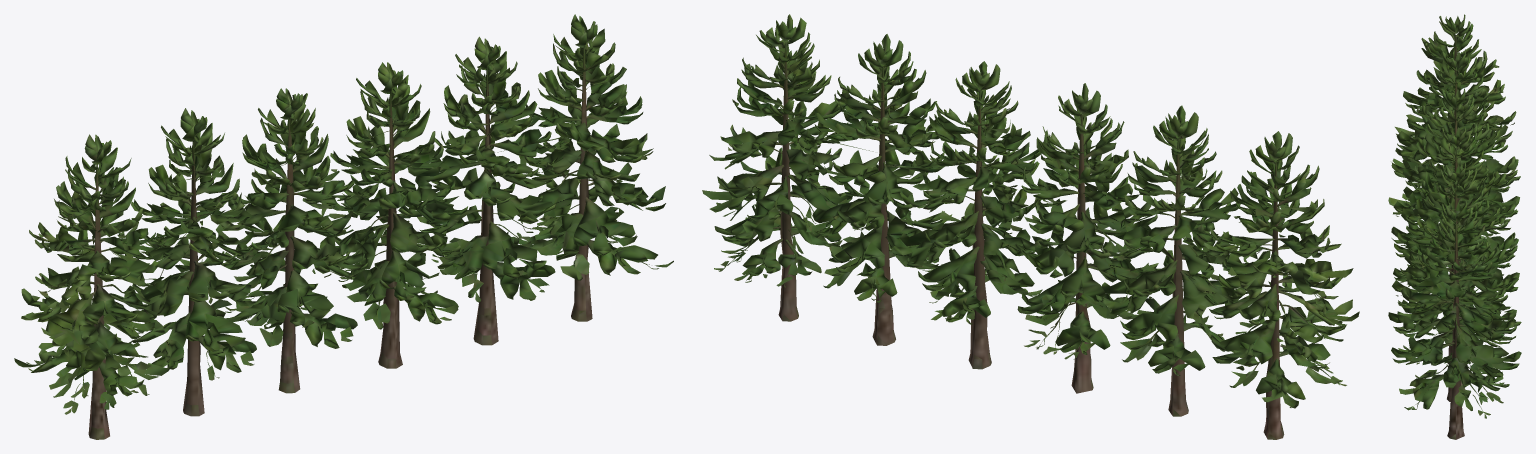
Rendered from pine.glb.
The picture shows the model from 3 angles, left to right: view 1: azimuth 30°, elevation 25°; view 2: azimuth 150°, elevation 25°; view 3: azimuth 270°, elevation 25°; orthographic projection. The views are drawn at different scales.
Visible parts, largest first — view 1: tripo_node_efa7b262-2585-4e77-8424-a34335fed02c; view 2: tripo_node_efa7b262-2585-4e77-8424-a34335fed02c; view 3: tripo_node_efa7b262-2585-4e77-8424-a34335fed02c.
Boxes of the visible parts, <box> form: tripo_node_efa7b262-2585-4e77-8424-a34335fed02c: <box>14,14,673,439</box>; tripo_node_efa7b262-2585-4e77-8424-a34335fed02c: <box>702,14,1359,439</box>; tripo_node_efa7b262-2585-4e77-8424-a34335fed02c: <box>1388,14,1521,439</box>.
Size of the model in its own units: 0.9995 by 0.4672 by 0.2378.
1 material, 1 textured.
